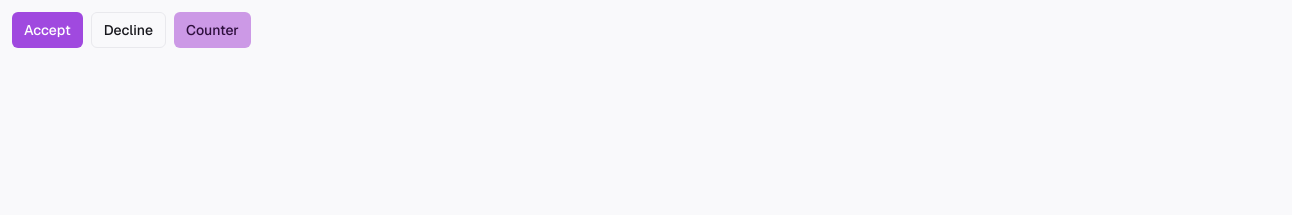
Test case: ProposalActions › navigates only when acceptance returns a confirmed surrogacy
This screenshot has width=1292, height=215.
Later steps or results of the test are not shown.
Click the button "Accept" at {"x": 47, "y": 30}, box [12,12,83,48]
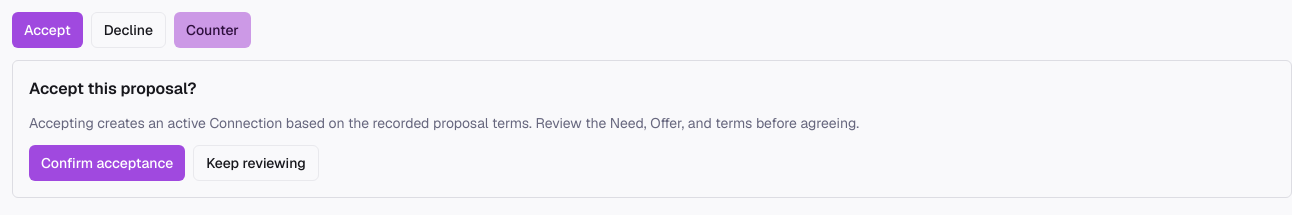
Now the heading "Accept this proposal?" is shown, box [29,78,197,99]
